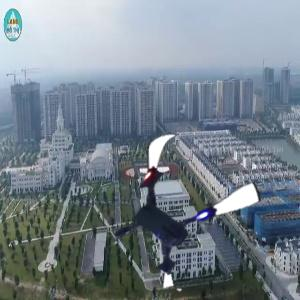drone: (98, 126, 261, 289)
